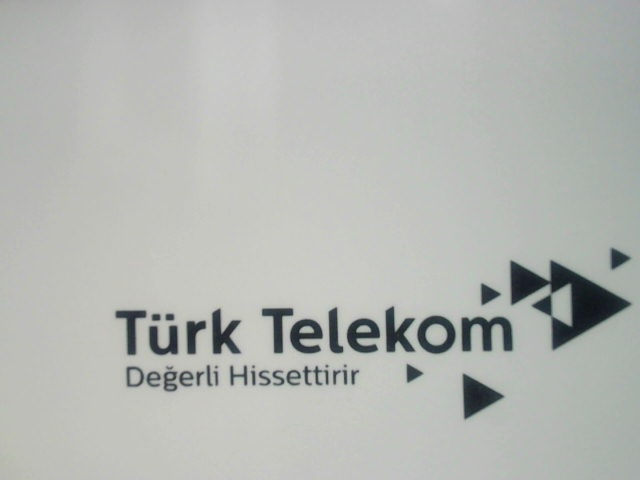AQ_TURKTelekom: (106, 242, 637, 427)
